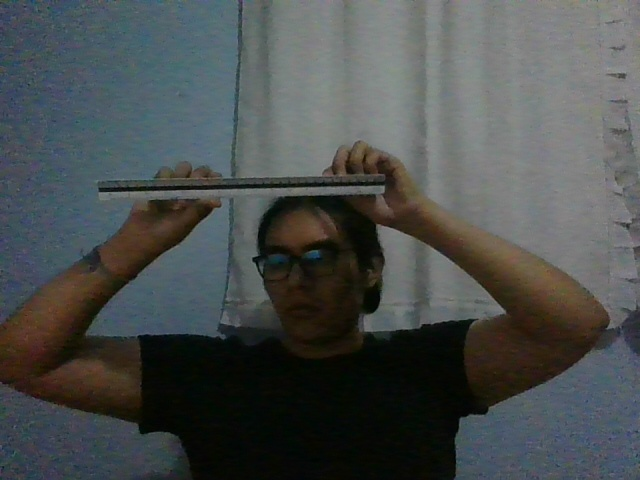regla: (95, 173, 386, 202)
